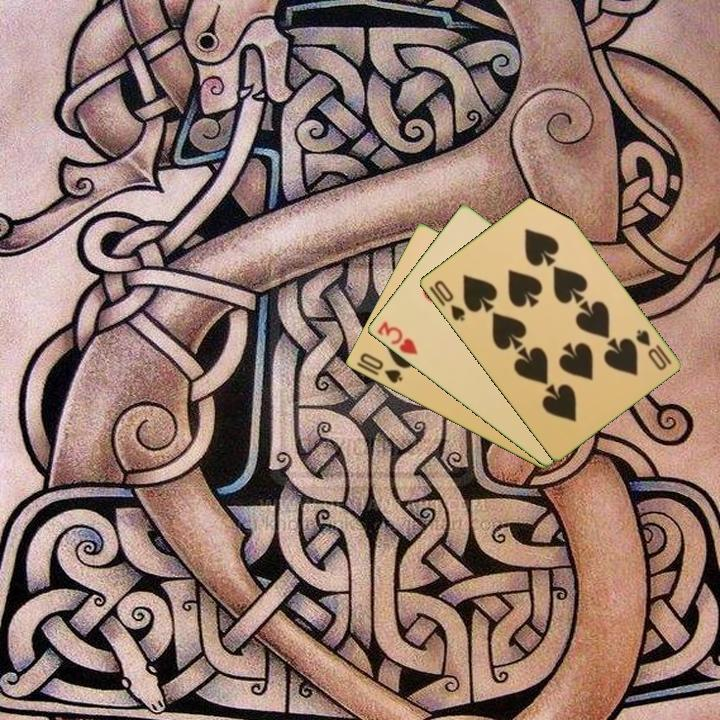10s: (632, 326, 674, 373), (356, 349, 405, 387), (430, 277, 468, 324)
3h: (373, 318, 420, 358)
